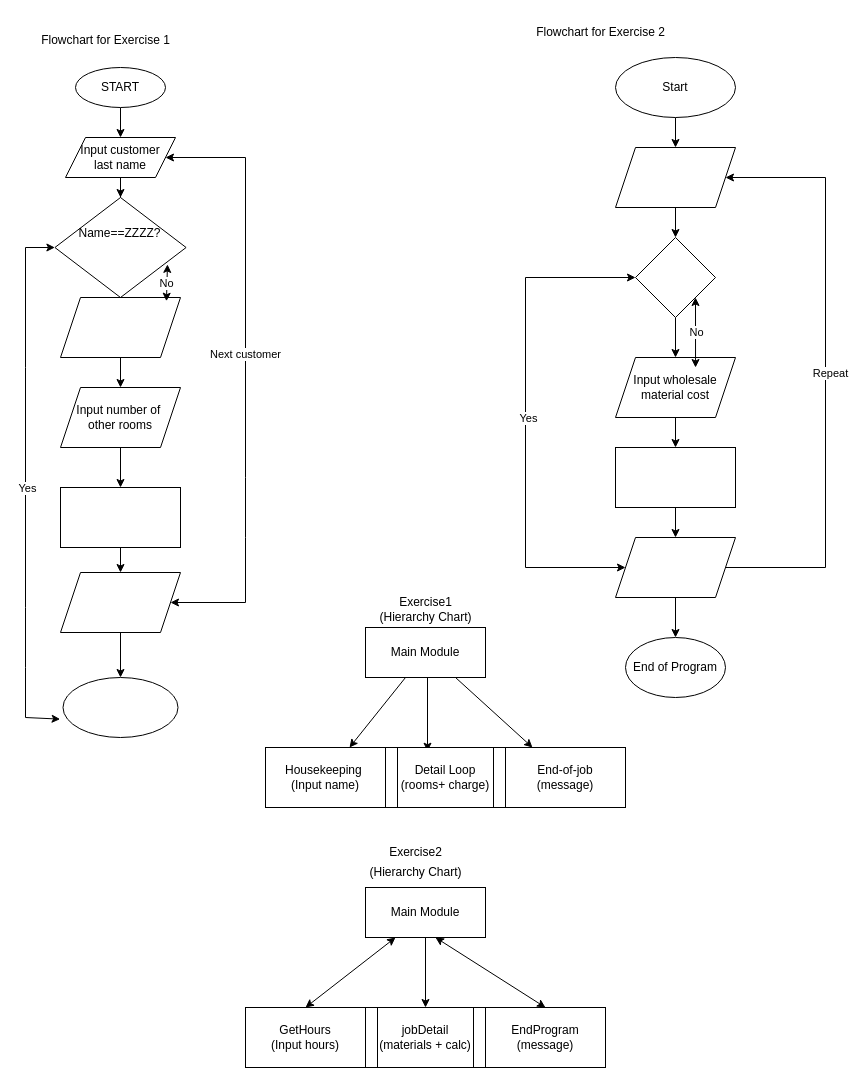
This 865x1085 diagram has some shape labels left out. The shapes that lost their labels are listed below. From the top down, each one's box as (x1, y1, x2, y2) in pixels, then its label:
(614, 146, 736, 208): Input hours
(634, 236, 716, 318): hours == 0?
(60, 296, 180, 358): Input number of bathrooms
(614, 446, 736, 508): Compute total = (hours * 30 + (1.2 * cost)
(60, 486, 180, 548): Compute total= 40 + (bath * 15) +(rooms * 10)
(614, 536, 736, 598): Display total cost
(60, 572, 180, 632): Display name, room details, and total
